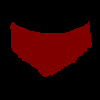mutande: (10, 20, 92, 77)
